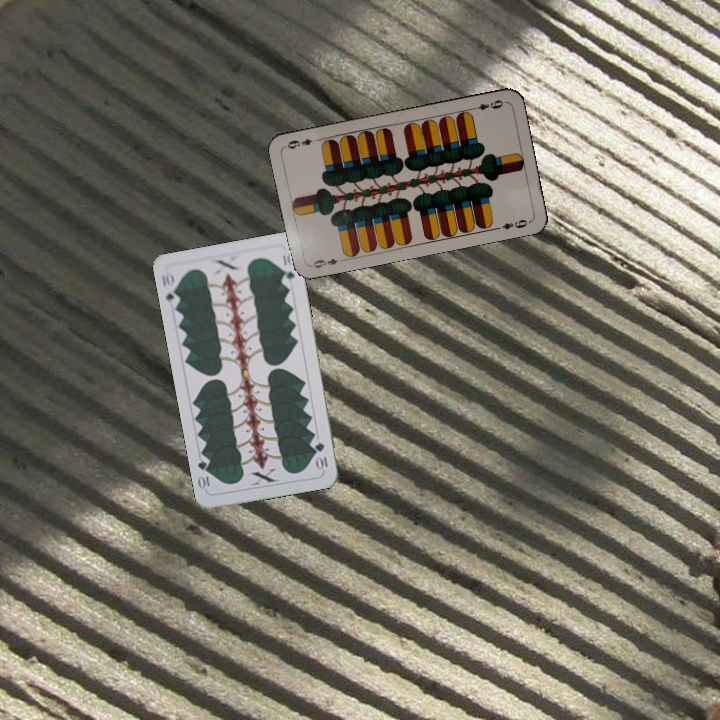E9: (467, 96, 508, 113), (307, 254, 347, 271)
G10: (157, 268, 182, 308), (311, 438, 330, 472)
